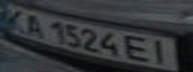1: (42, 17, 66, 44)
2: (78, 26, 100, 54)
4: (100, 29, 124, 58)
5: (60, 21, 81, 50)
A: (18, 11, 48, 38)
E: (121, 33, 154, 63)
I: (145, 37, 178, 65)
K: (0, 4, 33, 33)
